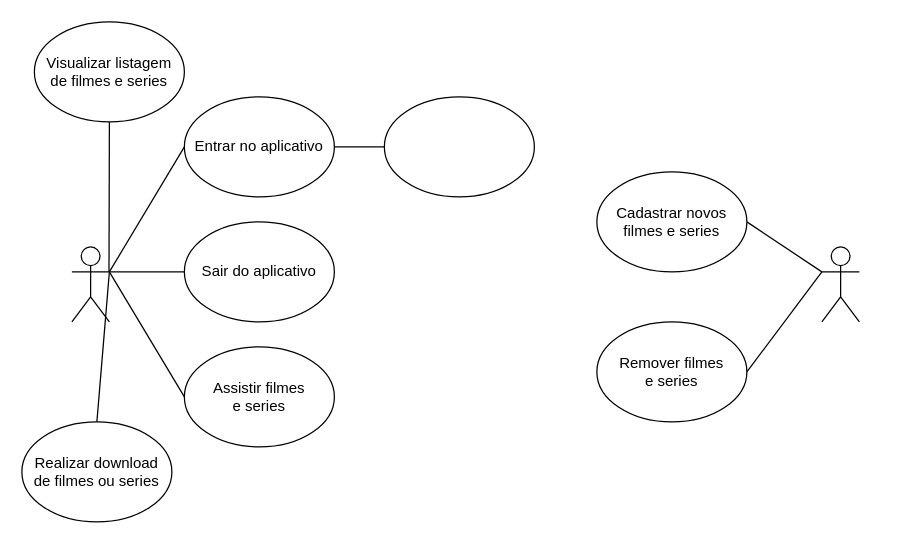
Some shapes in this 909 by 544 pixel diagram are drawn without their labels. Each missing label, with the centre of its shape:
"Administrador" belongs at [840,284].
"Selecionar perfil" belongs at [458,146].
"Usuário" belongs at [90,284].
